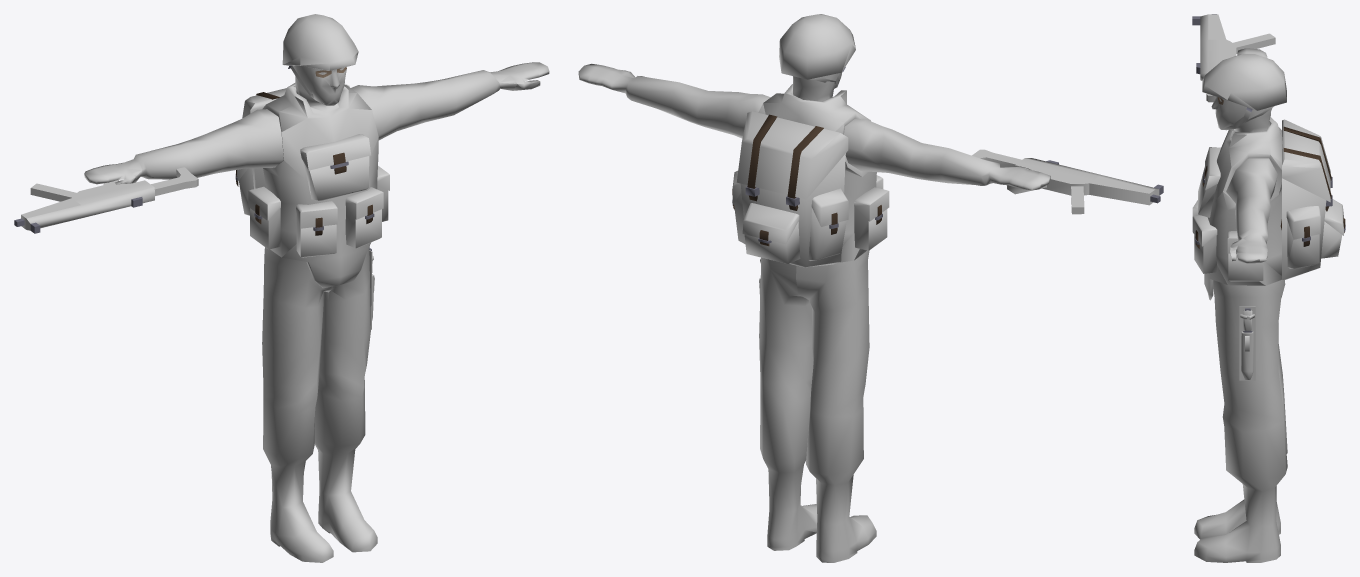
File: elite.obj
The picture shows the model from 3 angles, left to right: view 1: azimuth 30°, elevation 25°; view 2: azimuth 150°, elevation 25°; view 3: azimuth 270°, elevation 25°; orthographic projection. The views are drawn at different scales.
Parts seen in each view (by area): view 1: legs, arms, vest, boots, bags, baglids, MP5, hat, hands, head, MP5grip; view 2: legs, arms, baglids, boots, bags, vest, hat, hands, MP5grip, MP5, ribbon, head; view 3: legs, vest, baglids, bags, boots, hat, arms, MP5, head, hands, bladecover, ribbon (+2 smaller).
Boxes of the visible parts, x1=… form: legs: x1=262, y1=245, x2=370, y2=467; arms: x1=134, y1=70, x2=499, y2=179; vest: x1=262, y1=83, x2=378, y2=288; boots: x1=270, y1=449, x2=377, y2=562; bags: x1=239, y1=156, x2=388, y2=257; baglids: x1=237, y1=83, x2=389, y2=228; MP5: x1=26, y1=167, x2=198, y2=230; hat: x1=282, y1=14, x2=358, y2=70; hands: x1=84, y1=62, x2=549, y2=184; head: x1=293, y1=66, x2=346, y2=113; MP5grip: x1=21, y1=180, x2=147, y2=229; legs: x1=759, y1=250, x2=869, y2=484; arms: x1=625, y1=76, x2=1000, y2=185; baglids: x1=732, y1=111, x2=889, y2=244; boots: x1=767, y1=465, x2=876, y2=562; bags: x1=734, y1=153, x2=887, y2=267; vest: x1=758, y1=84, x2=876, y2=262; hat: x1=779, y1=14, x2=855, y2=79; hands: x1=578, y1=63, x2=1050, y2=190; MP5grip: x1=1015, y1=163, x2=1154, y2=205; MP5: x1=972, y1=149, x2=1159, y2=214; ribbon: x1=732, y1=114, x2=881, y2=246; head: x1=793, y1=72, x2=842, y2=101; legs: x1=1213, y1=280, x2=1287, y2=491; vest: x1=1204, y1=117, x2=1282, y2=300; baglids: x1=1192, y1=119, x2=1343, y2=253; bags: x1=1194, y1=167, x2=1342, y2=281; boots: x1=1194, y1=484, x2=1280, y2=562; hat: x1=1202, y1=54, x2=1286, y2=110; arms: x1=1226, y1=112, x2=1277, y2=243; MP5: x1=1200, y1=14, x2=1275, y2=102; head: x1=1211, y1=97, x2=1272, y2=140; hands: x1=1230, y1=48, x2=1267, y2=263; bladecover: x1=1239, y1=306, x2=1255, y2=380; ribbon: x1=1195, y1=126, x2=1345, y2=248.
Size of the model in its own units: 2.01 by 1.81 by 0.5144.
